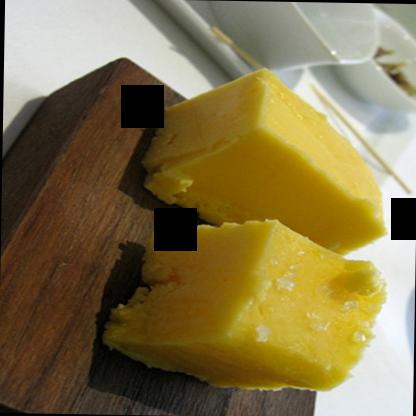butter: (136, 66, 386, 255), (121, 220, 380, 390)
